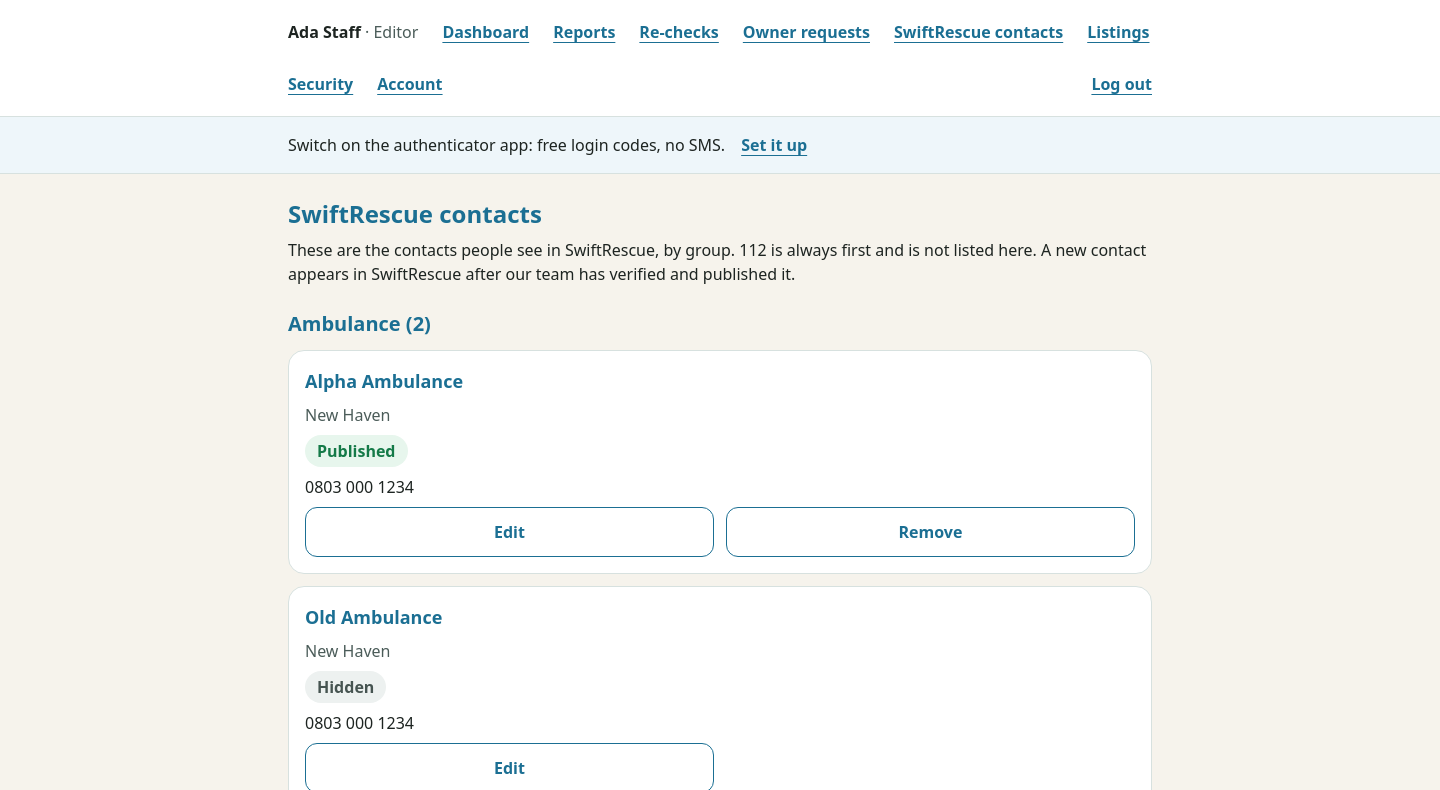
removing a contact (hiding it, never deleting) › asks for a reason, then asks to confirm, and sends nothing before the answer
Click the button with aria-label "Remove Alpha Ambulance": point(930, 532) [726,507,1135,557]
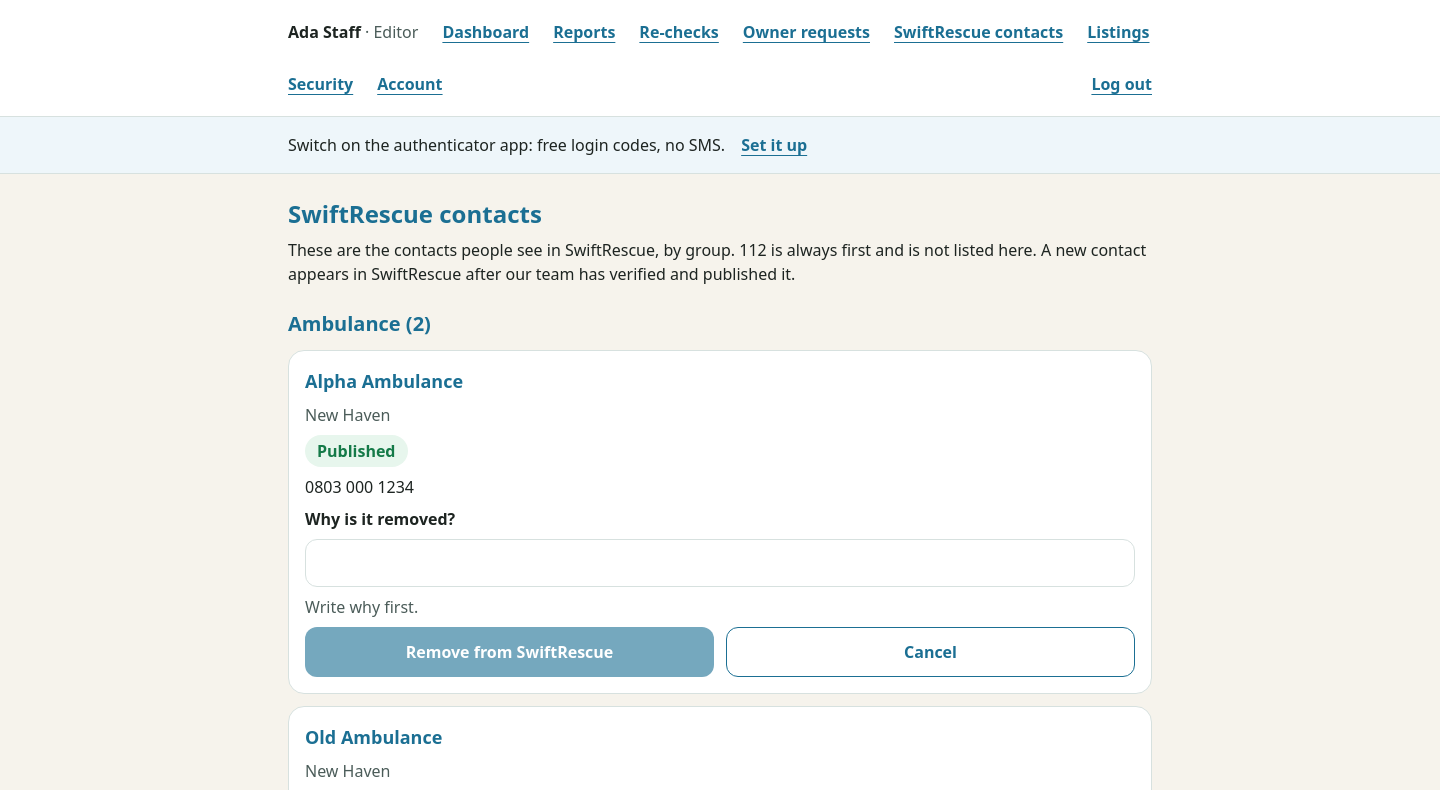
Check: the button "Remove from SwiftRescue" is disabled, box [305,627,714,677]
Check: the text "Write why first." is shown, box [305,596,418,618]
In the field labelled "Why is it removed?": point(720, 563) [305,539,1135,587], type "No longer runs"
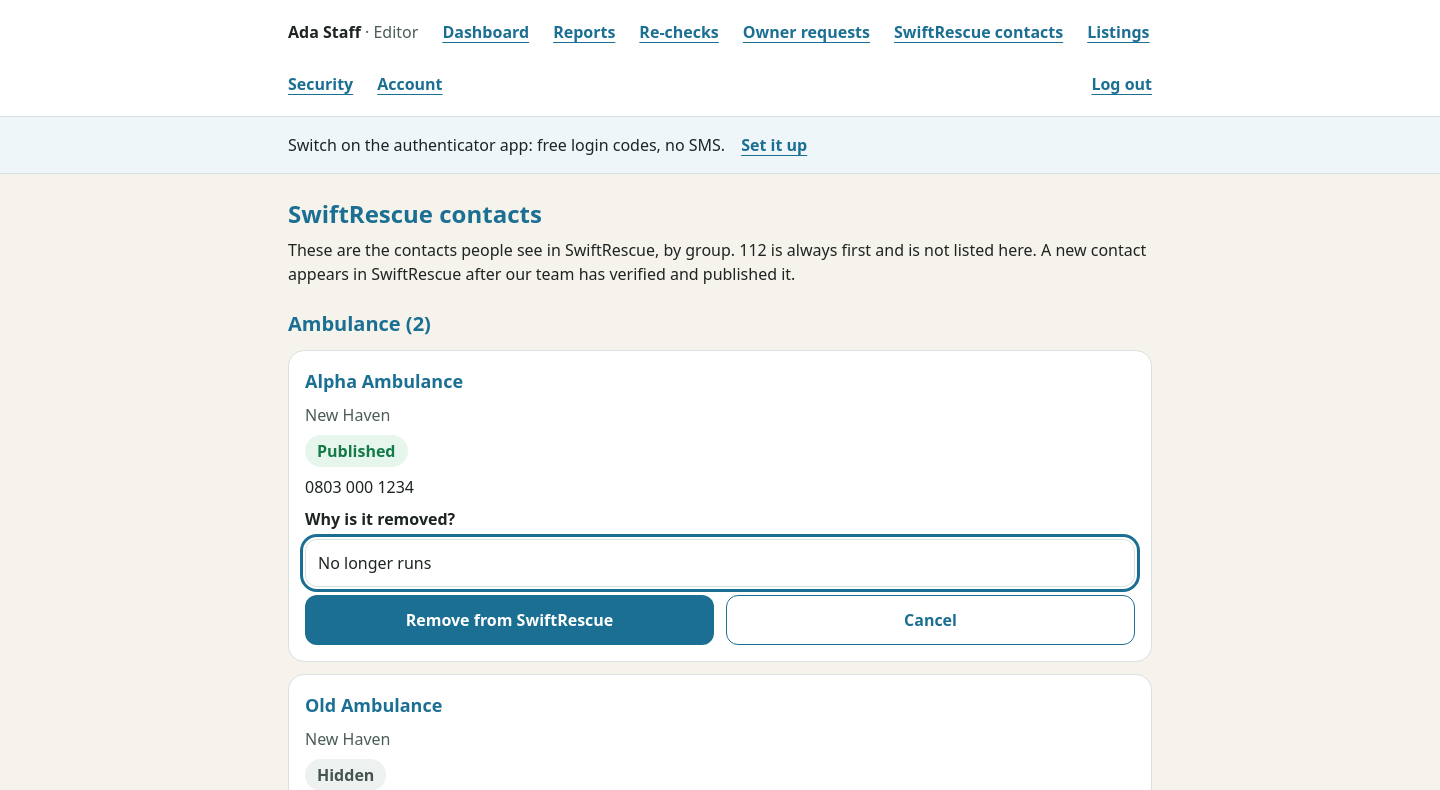
Click the button "Remove from SwiftRescue": point(510, 620) [305,595,714,645]
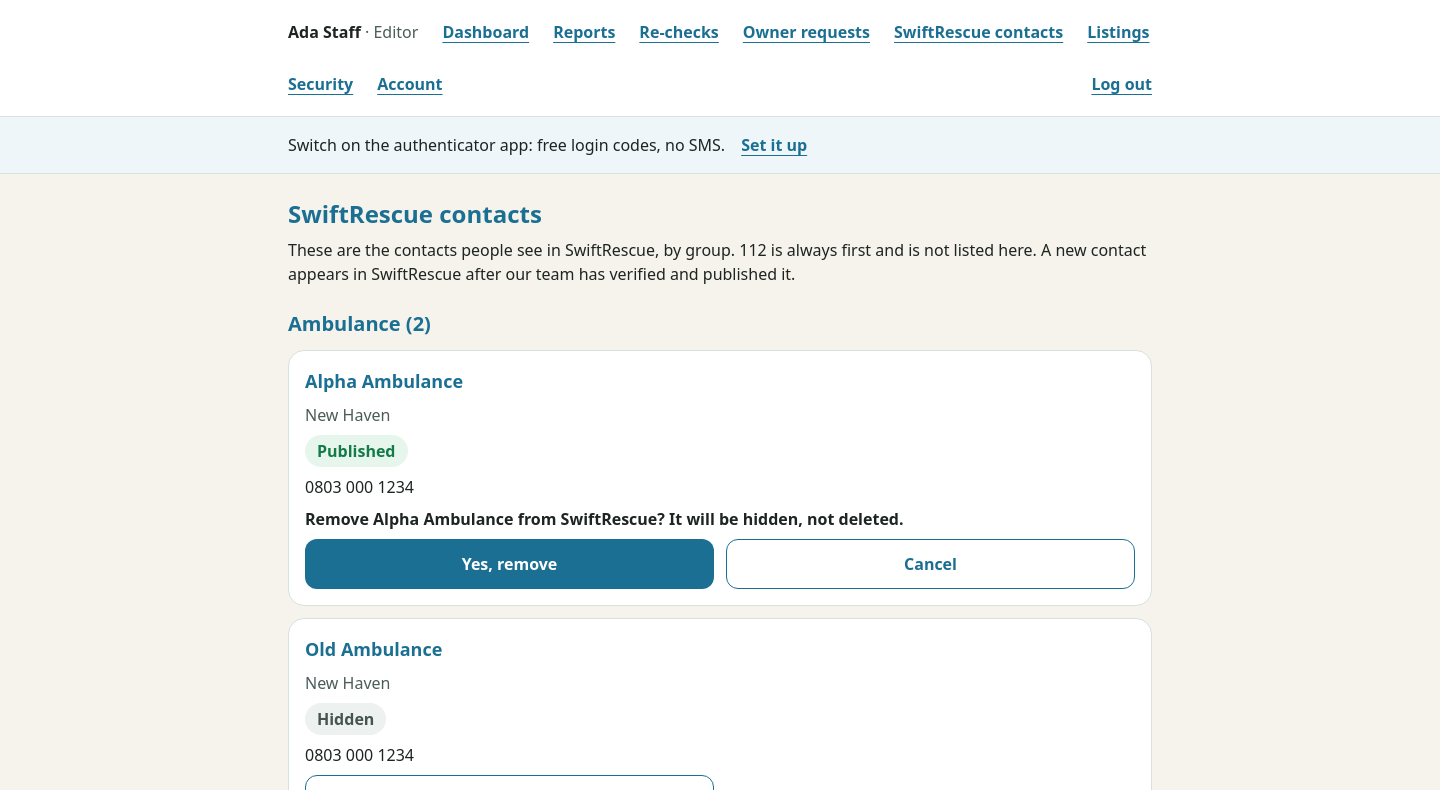
Check: the text "Remove Alpha Ambulance from SwiftRescue? It will be hidden, not deleted." is shown, box [305,508,904,530]
